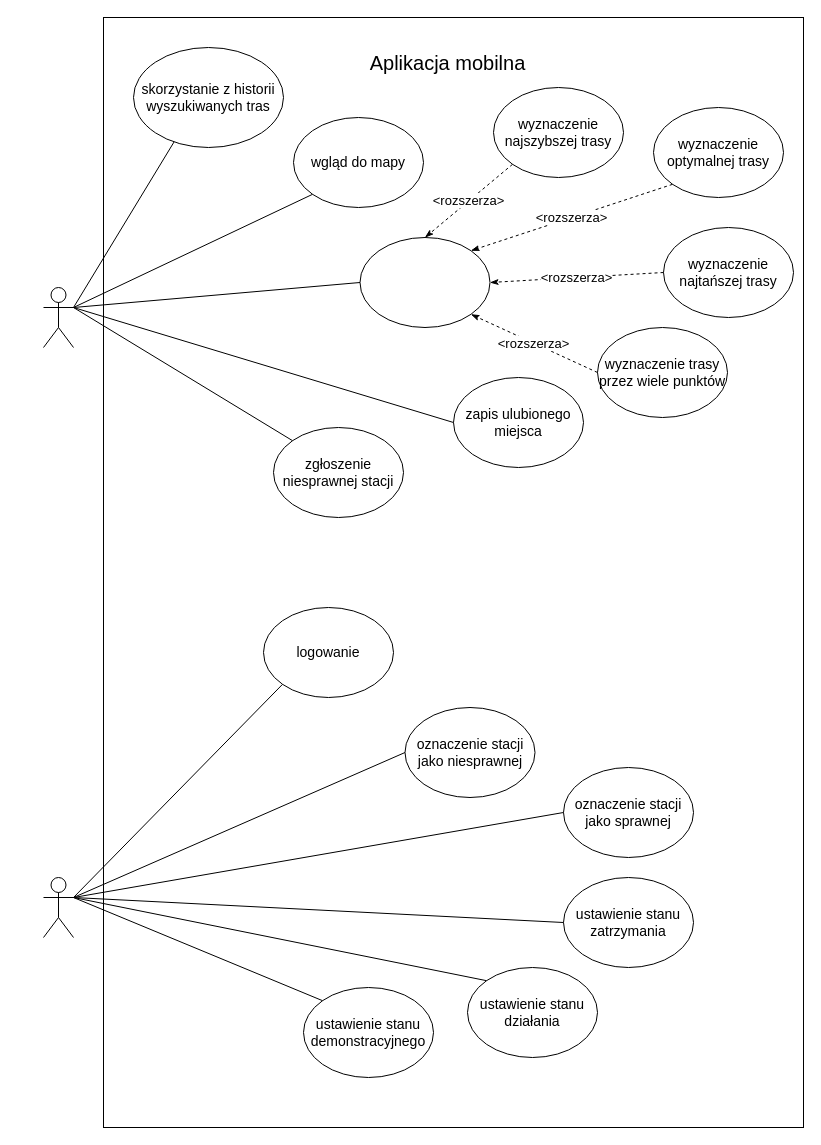
This 821x1145 diagram has some shape labels left out. Each missing label, with the centre of its shape:
"Administrator" belongs at pixel 58 907.
"Użytkownik" belongs at pixel 58 317.
"wyznaczenie trasy" belongs at pixel 424 282.
